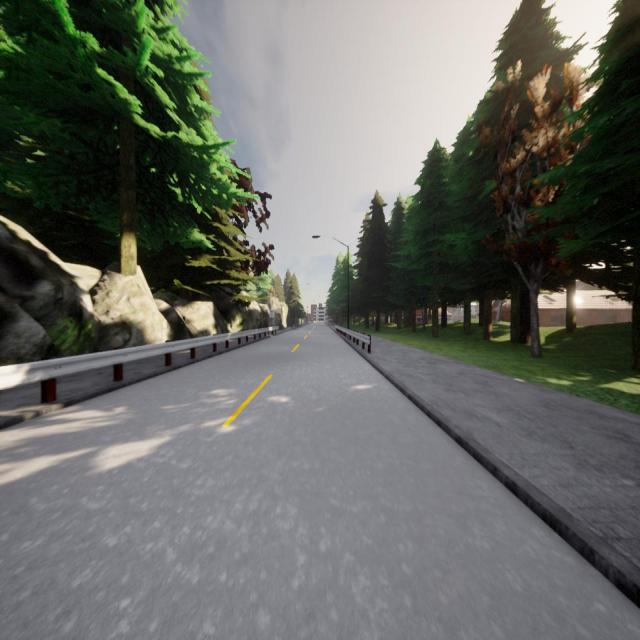Traffic_Signs: (269, 311, 275, 319)
